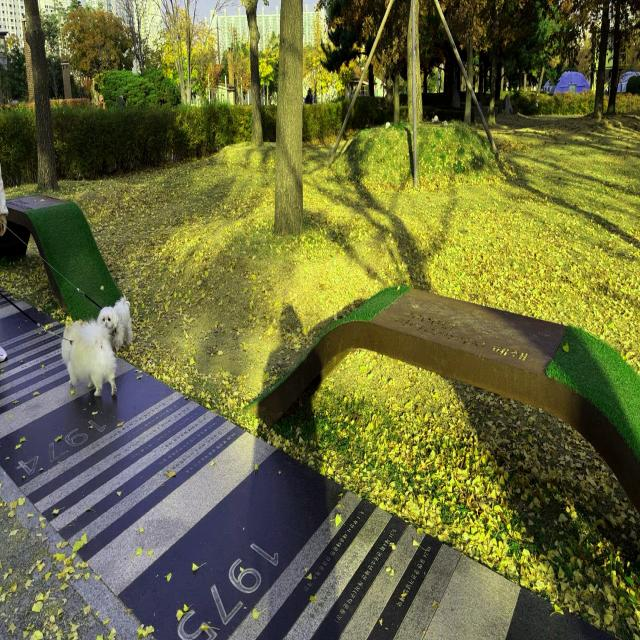Dog: (60, 317, 118, 398), (96, 293, 134, 354)
